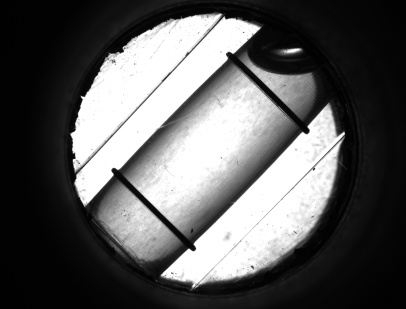line: (119, 183, 184, 232), (244, 78, 301, 113)
